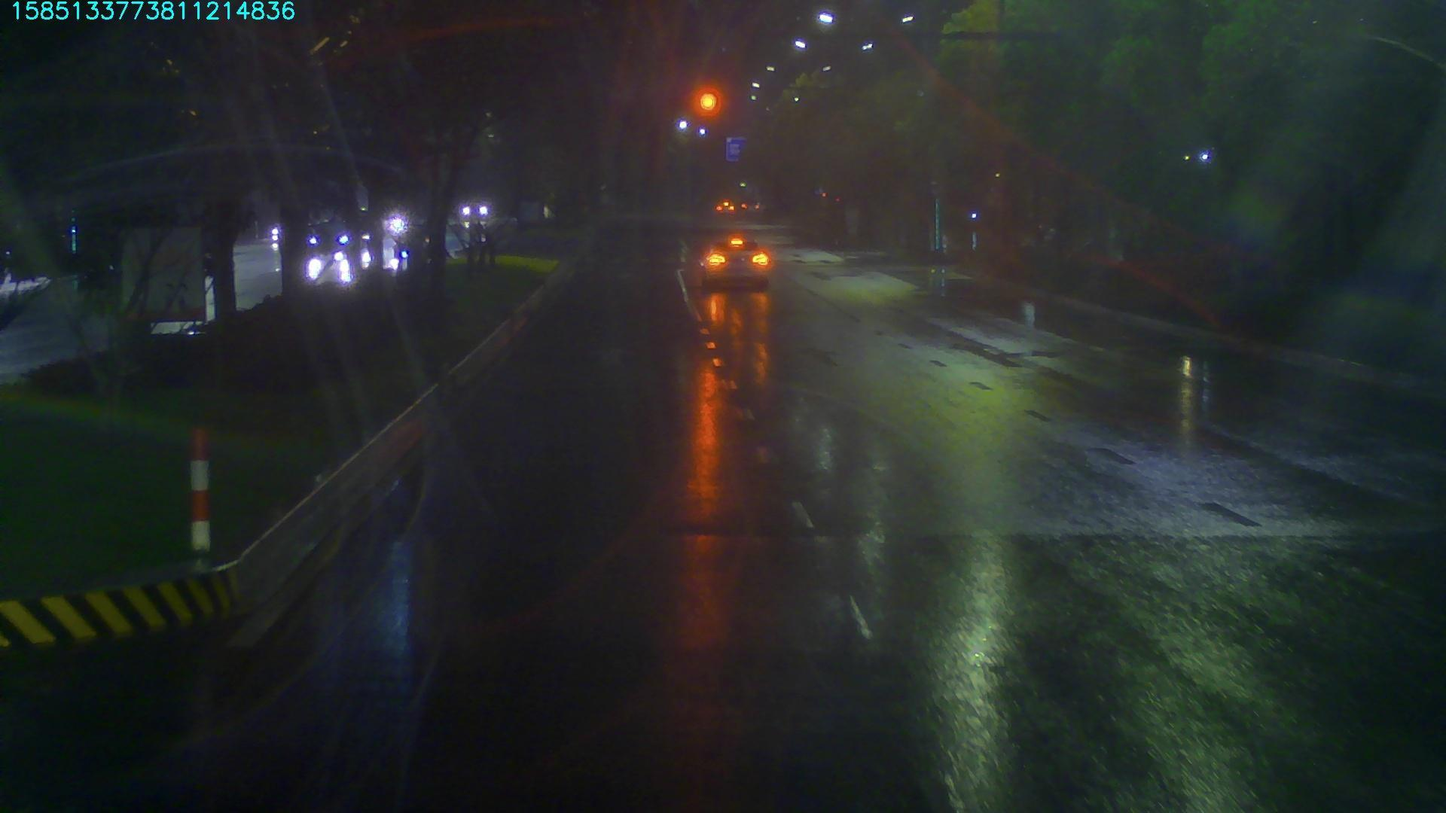red: (695, 89, 719, 109)
